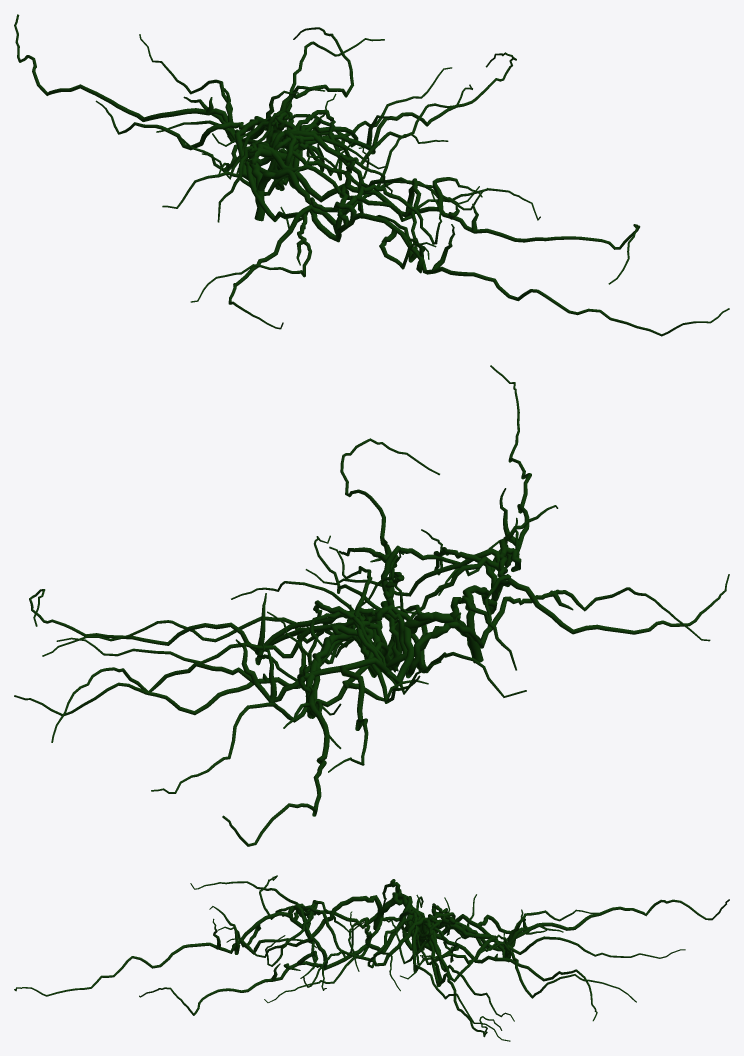
The model's file is Liana.fbx.
The picture shows the model from 3 angles, top to bottom: view 1: azimuth 30°, elevation 25°; view 2: azimuth 150°, elevation 25°; view 3: azimuth 270°, elevation 25°; orthographic projection. The views are drawn at different scales.
Visible parts, largest first — view 1: IVY_Curve.001; view 2: IVY_Curve.001; view 3: IVY_Curve.001.
Boxes of the visible parts, x1,y1,x2,y2 form: IVY_Curve.001: [14, 14, 729, 336]; IVY_Curve.001: [14, 365, 729, 846]; IVY_Curve.001: [14, 875, 729, 1041].
Size of the model in its own units: 179 by 25.56 by 317.
